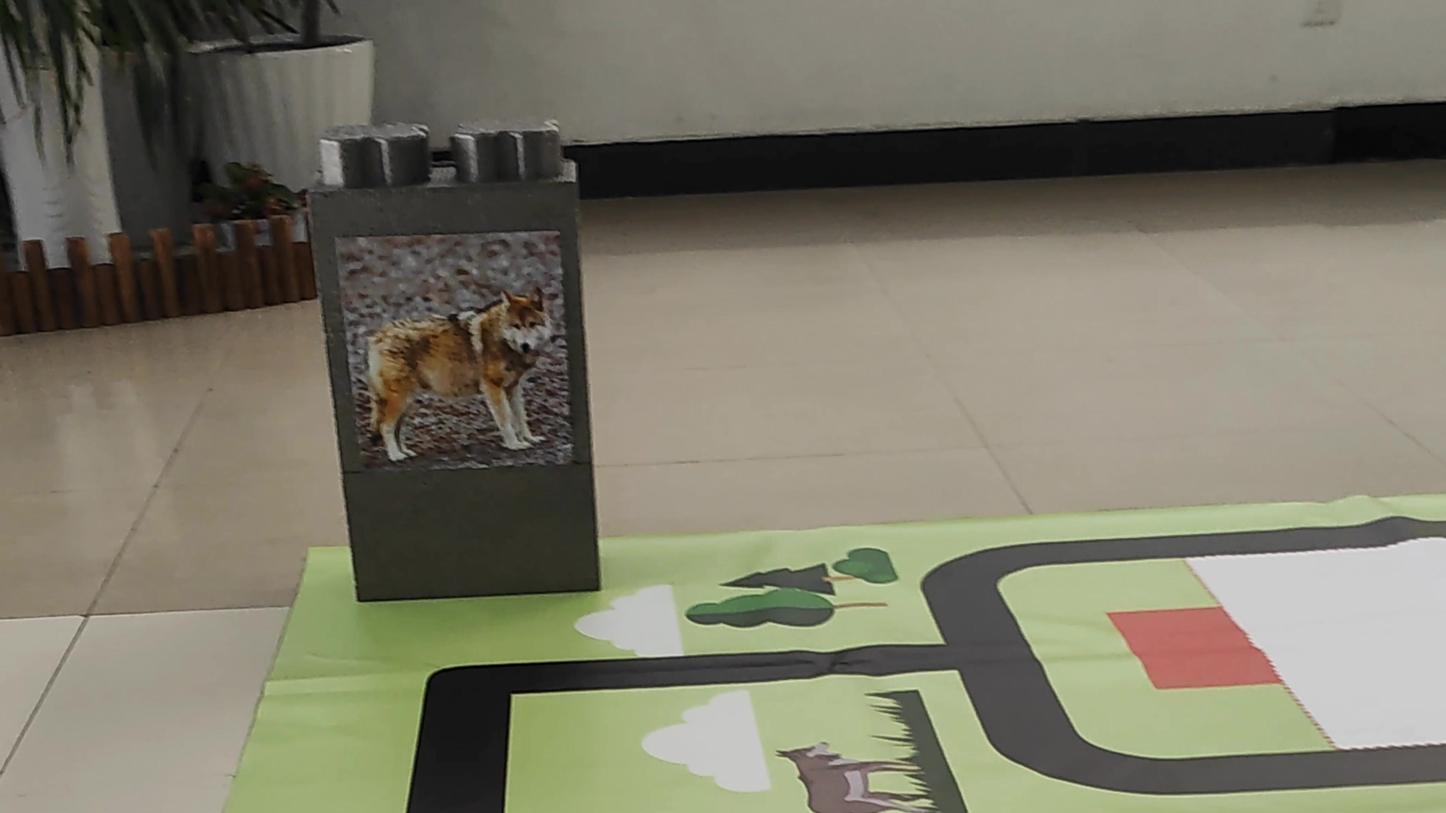wolf: (342, 244, 564, 466)
